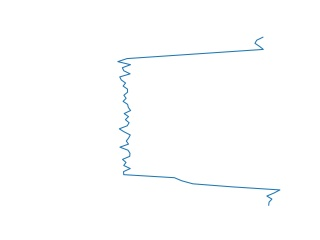distributaryChannelFill: (113, 37, 284, 207)
